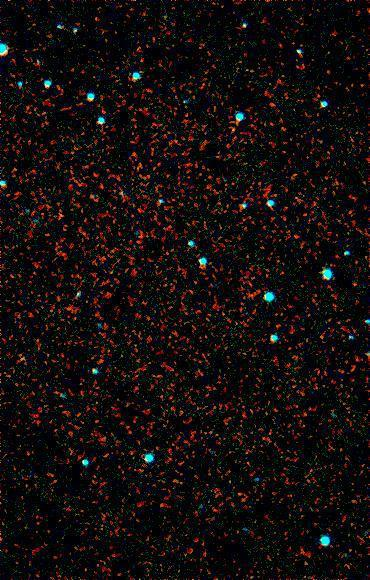star: (210, 115, 240, 145)
